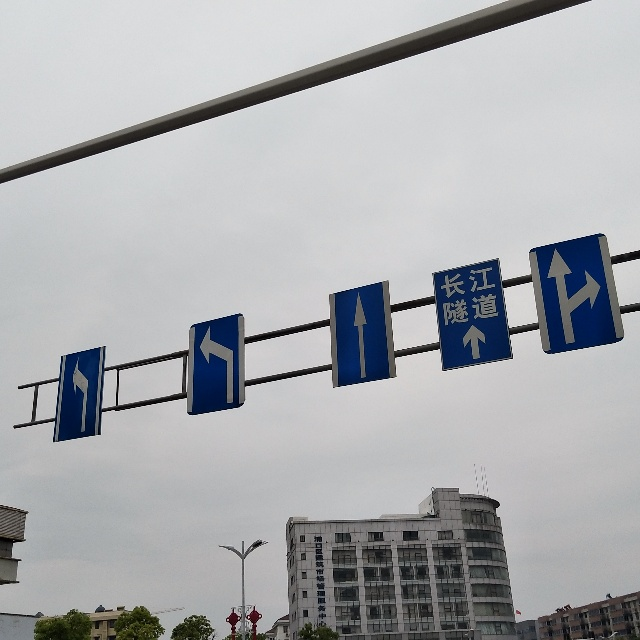left: (190, 327, 241, 414), (60, 355, 102, 429)
straight: (337, 292, 386, 383)
